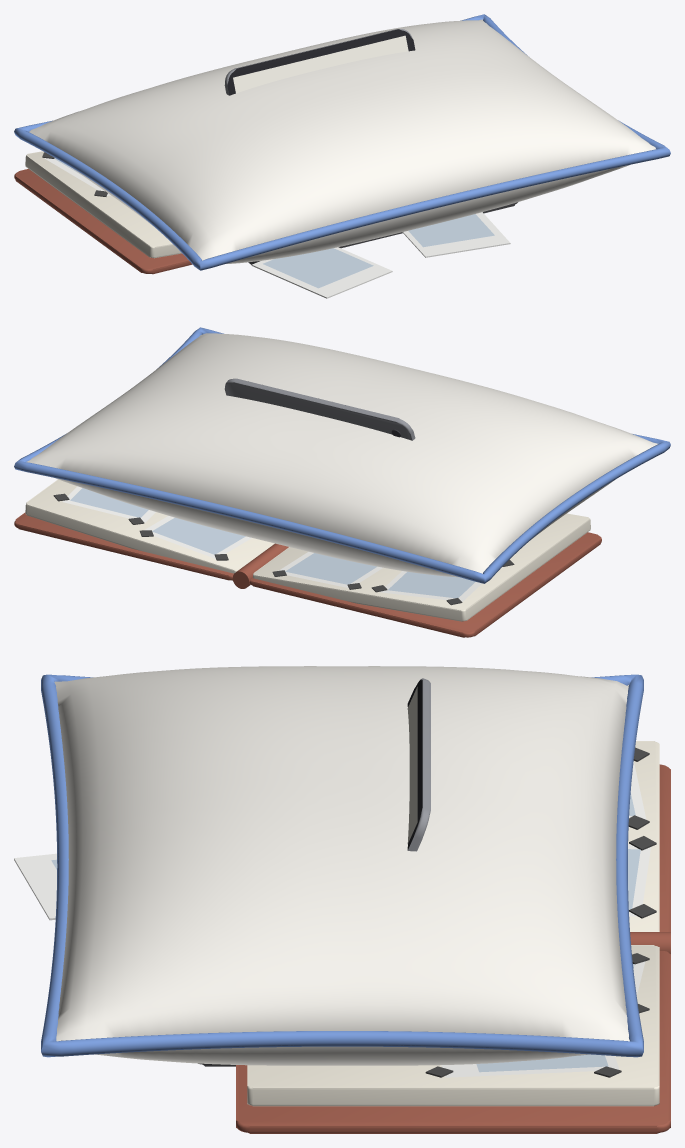
File: ofrendas.glb
3 views of the same model, one above another, from view 1: azimuth 30°, elevation 25°; view 2: azimuth 150°, elevation 25°; view 3: azimuth 270°, elevation 25° (orthographic). The views are drawn at different scales.
Visible parts, largest first — view 1: Ofrenda_almohada, Ofrenda_album, Ofrenda_ipad; view 2: Ofrenda_almohada, Ofrenda_album, Ofrenda_ipad; view 3: Ofrenda_almohada, Ofrenda_album, Ofrenda_ipad.
Part boxes in pixels (left/top/right/bottom): Ofrenda_almohada: left=14, top=14, right=670, bottom=270; Ofrenda_album: left=14, top=151, right=510, bottom=298; Ofrenda_ipad: left=224, top=29, right=415, bottom=95; Ofrenda_almohada: left=14, top=327, right=670, bottom=583; Ofrenda_album: left=14, top=479, right=601, bottom=637; Ofrenda_ipad: left=224, top=378, right=415, bottom=440; Ofrenda_almohada: left=41, top=666, right=643, bottom=1065; Ofrenda_album: left=14, top=741, right=670, bottom=1133; Ofrenda_ipad: left=407, top=678, right=430, bottom=851.
Size of the model in its own units: 0.6288 by 0.171 by 0.4683.
